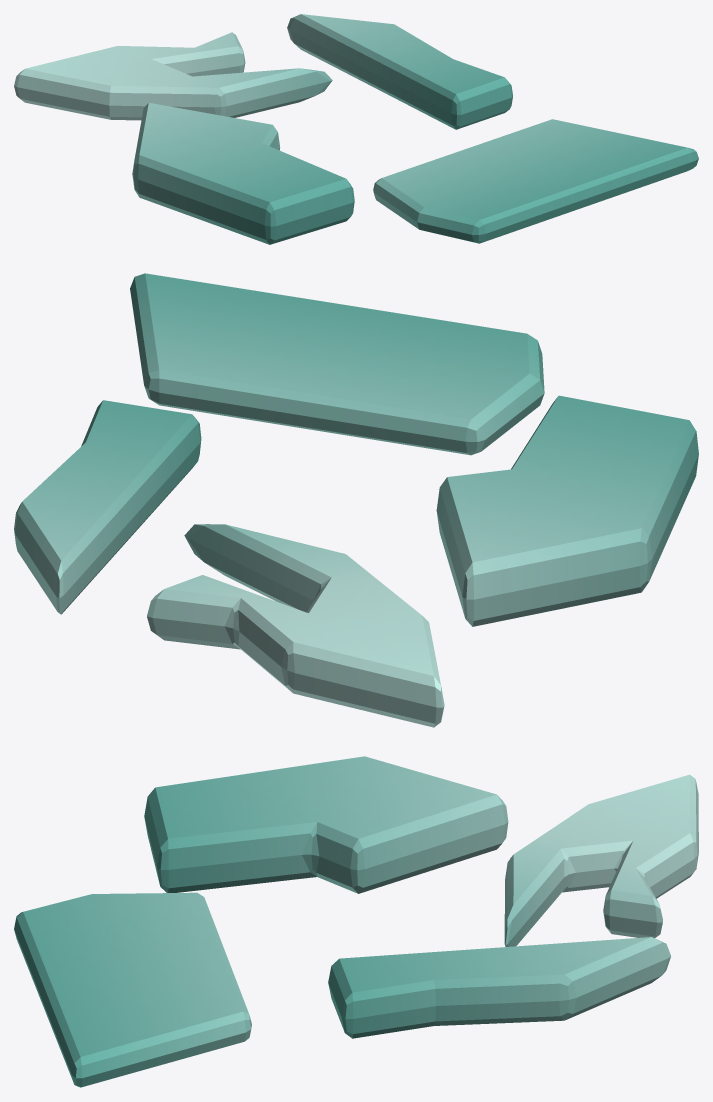
File: Mod_Glassbreak_03.fbx
3 views of the same model, one above another, from view 1: azimuth 30°, elevation 25°; view 2: azimuth 150°, elevation 25°; view 3: azimuth 270°, elevation 25° (orthographic). The views are drawn at different scales.
Parts seen in each view (by area): view 1: Mod_Glassbreak_03; view 2: Mod_Glassbreak_03; view 3: Mod_Glassbreak_03.
Part boxes in pixels (x1,y1,x2,y2): Mod_Glassbreak_03: (14,14,698,244); Mod_Glassbreak_03: (14,273,698,727); Mod_Glassbreak_03: (14,756,698,1087).
Bounding box in the file's own units: 75.67 × 6.81 × 76.75.
